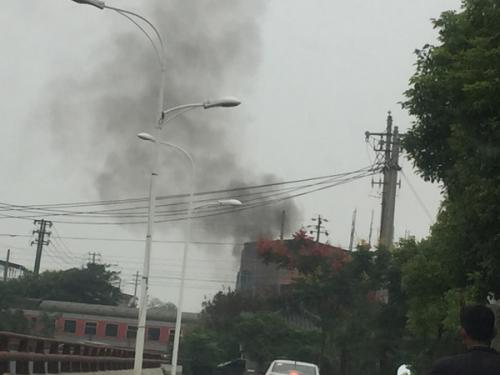smoke: (120, 44, 298, 246)
